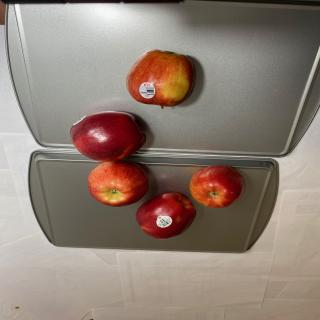Apple: (126, 49, 196, 109), (70, 111, 146, 162), (88, 160, 150, 207), (136, 192, 197, 239), (189, 165, 246, 208)
